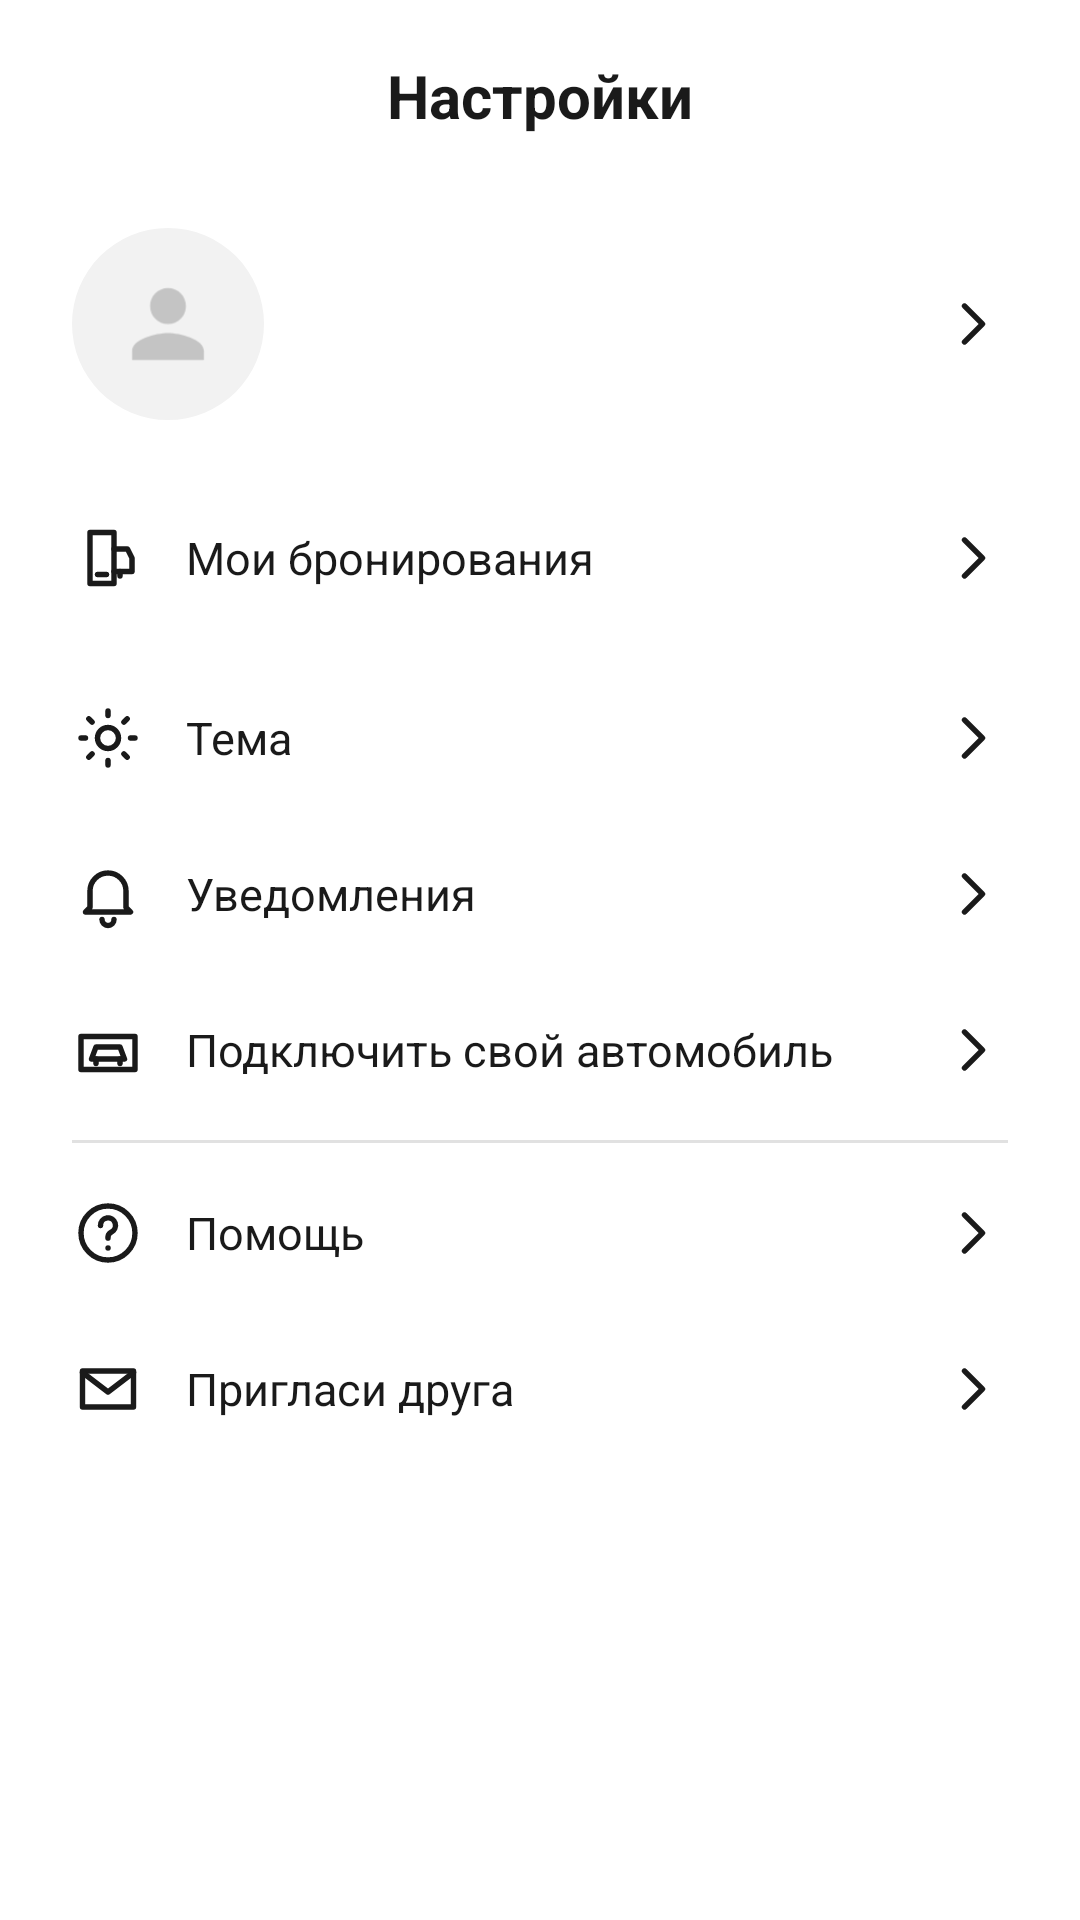

Icons on this 1080px x 1920px Android screen, each with the point to tap as (x=x, y=y):
chevron right: (x=973, y=324)
